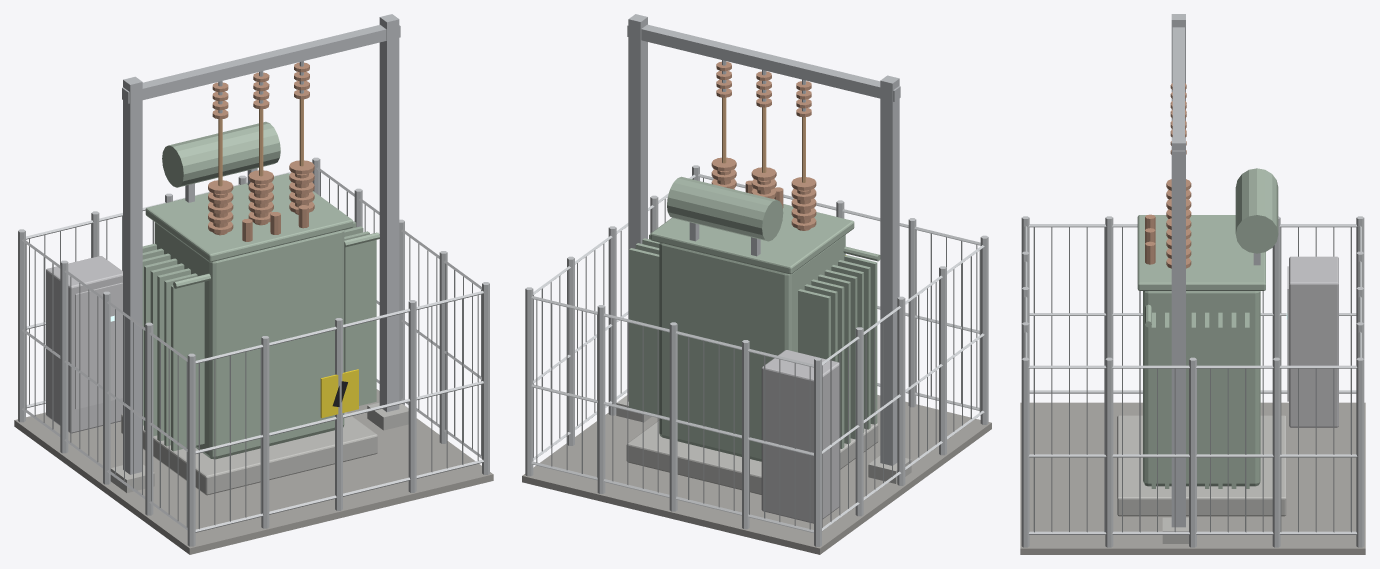
The model's file is xfmr_big.fbx.
3 views of the same model, side by side, from view 1: azimuth 30°, elevation 25°; view 2: azimuth 150°, elevation 25°; view 3: azimuth 270°, elevation 25° (orthographic).
Visible parts, largest first — view 1: xfmr_big; view 2: xfmr_big; view 3: xfmr_big.
Boxes of the visible parts, x1,y1,x2,y2 form: xfmr_big: (14, 14, 493, 554); xfmr_big: (522, 14, 991, 554); xfmr_big: (1020, 14, 1365, 554).
Size of the model in its own units: 1.94 by 2.5 by 1.94.
